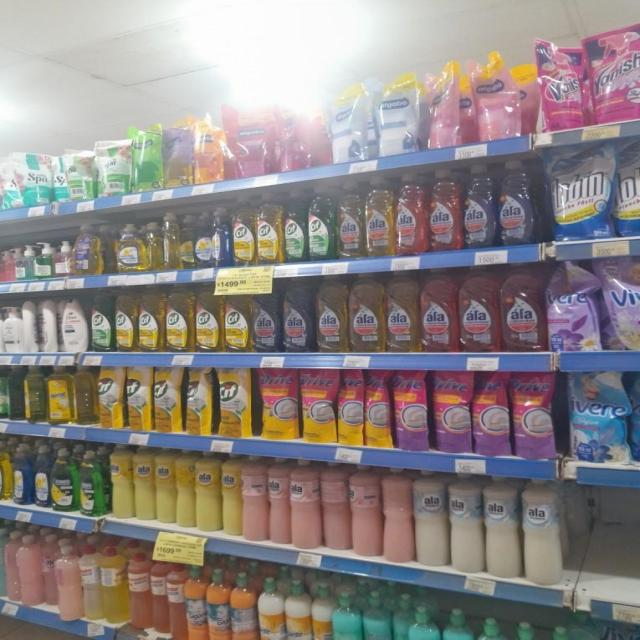ala_conc_amarillo: (349, 274, 384, 353), (385, 272, 419, 353), (316, 276, 348, 353), (365, 175, 394, 257), (337, 180, 364, 259)
ala_conc_azul: (498, 159, 536, 246), (463, 163, 496, 249), (282, 279, 314, 353), (252, 281, 281, 353)
ala_conc_rojo: (501, 268, 545, 353), (459, 270, 499, 354), (420, 272, 458, 353), (428, 168, 461, 252), (396, 172, 426, 255)
ala_crem_amarillo: (196, 452, 220, 532), (110, 444, 133, 520), (222, 453, 242, 538), (155, 448, 175, 526), (134, 446, 154, 522)
ala_crem_blanco: (522, 478, 566, 586), (484, 476, 520, 579), (449, 472, 483, 575), (413, 469, 448, 569)
ala_crem_rosado: (290, 458, 320, 550), (268, 457, 289, 546)
cif_conc_bot_amarilla: (223, 285, 251, 354), (256, 192, 282, 264), (165, 289, 194, 353), (195, 286, 222, 354), (232, 196, 255, 265), (138, 292, 164, 352), (114, 294, 137, 354)
cif_conc_botella_verde: (307, 185, 336, 261), (283, 190, 307, 262), (89, 295, 113, 352)
cif_conc_sachet_amarillo: (217, 366, 252, 438), (153, 366, 182, 432)
drive: (513, 372, 557, 459), (433, 370, 471, 454), (474, 371, 511, 457), (258, 367, 298, 441), (394, 370, 429, 451), (301, 367, 336, 444), (366, 369, 392, 448), (338, 368, 364, 446)
gigante: (231, 564, 258, 640), (285, 569, 312, 640), (259, 568, 285, 640), (334, 587, 363, 640), (364, 591, 394, 640), (313, 578, 335, 640), (443, 607, 474, 640)
magistral_con_amarillo: (115, 223, 145, 273), (0, 439, 11, 502)
magistral_con_azul: (51, 446, 77, 513), (207, 206, 231, 268), (12, 442, 32, 506), (34, 444, 50, 508)
zorro: (72, 222, 105, 276), (406, 605, 441, 640)
